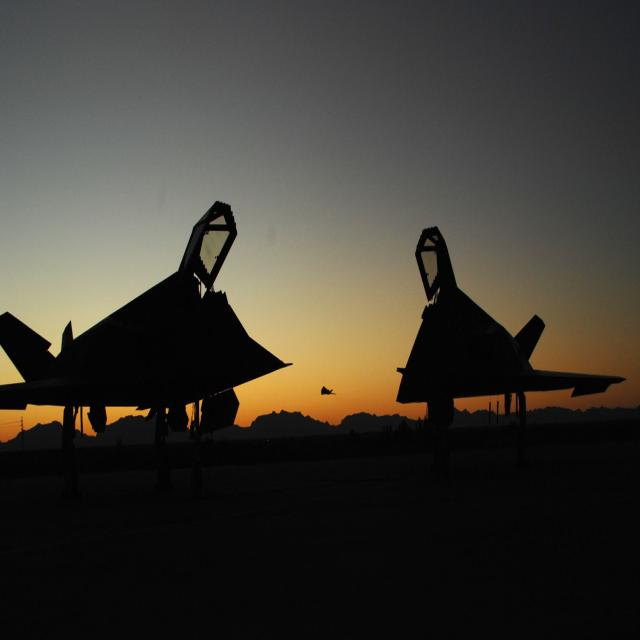MIL_Plane: (0, 200, 293, 492), (396, 226, 628, 475), (321, 385, 337, 396)
